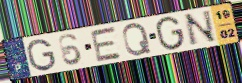6: (58, 33, 83, 67)
E: (89, 25, 124, 64)
G: (155, 15, 187, 52), (25, 38, 58, 72)
N: (182, 9, 219, 48)
Q: (121, 21, 153, 57)
